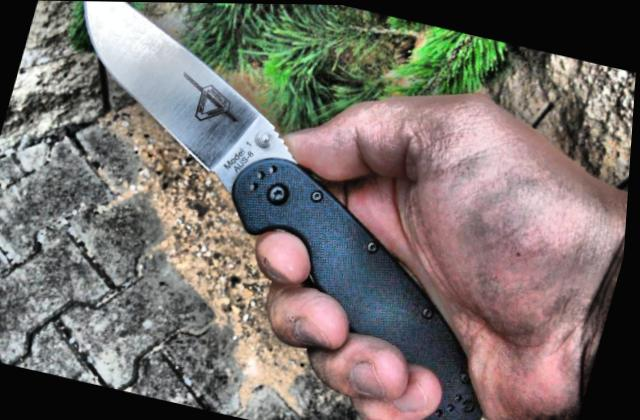knife: (0, 0, 541, 420)
